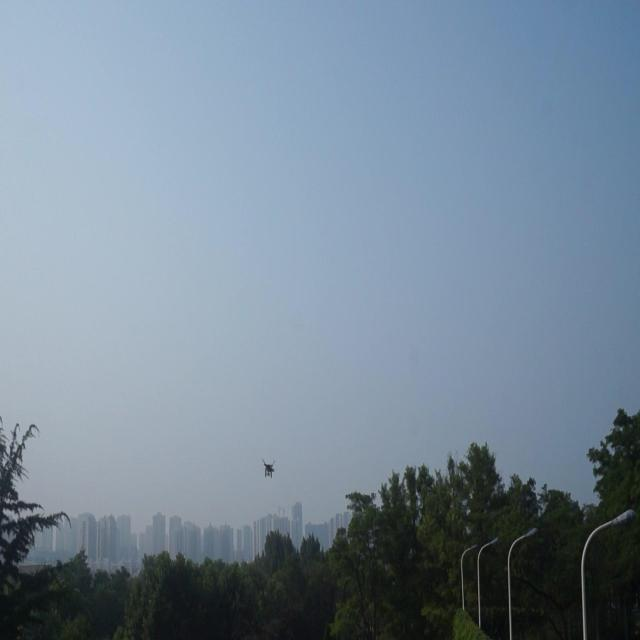drone: (260, 458, 276, 480)
